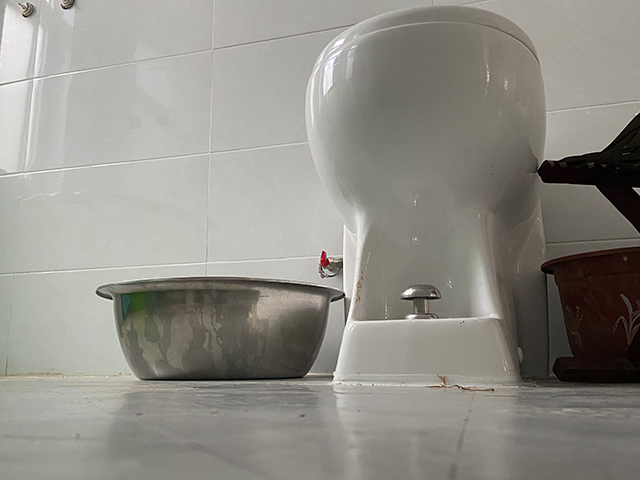closestool: (304, 3, 552, 389)
